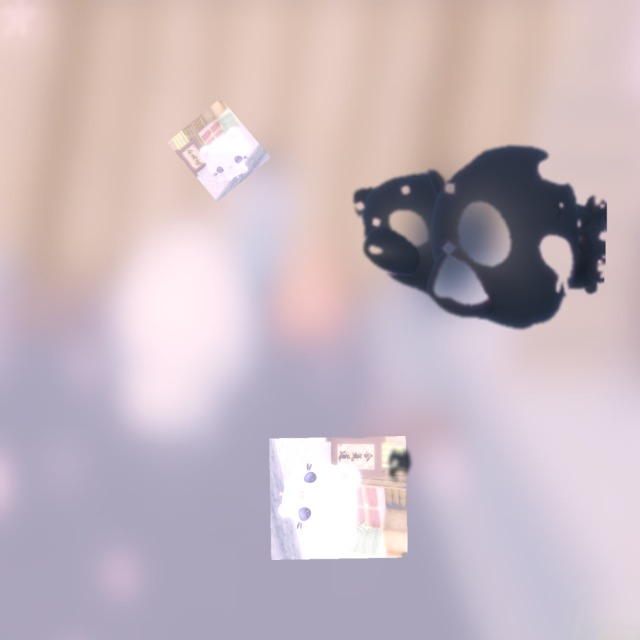urso_branco: (269, 436, 408, 560), (167, 98, 271, 202)
urso_preto: (330, 119, 611, 341), (379, 441, 420, 490)
